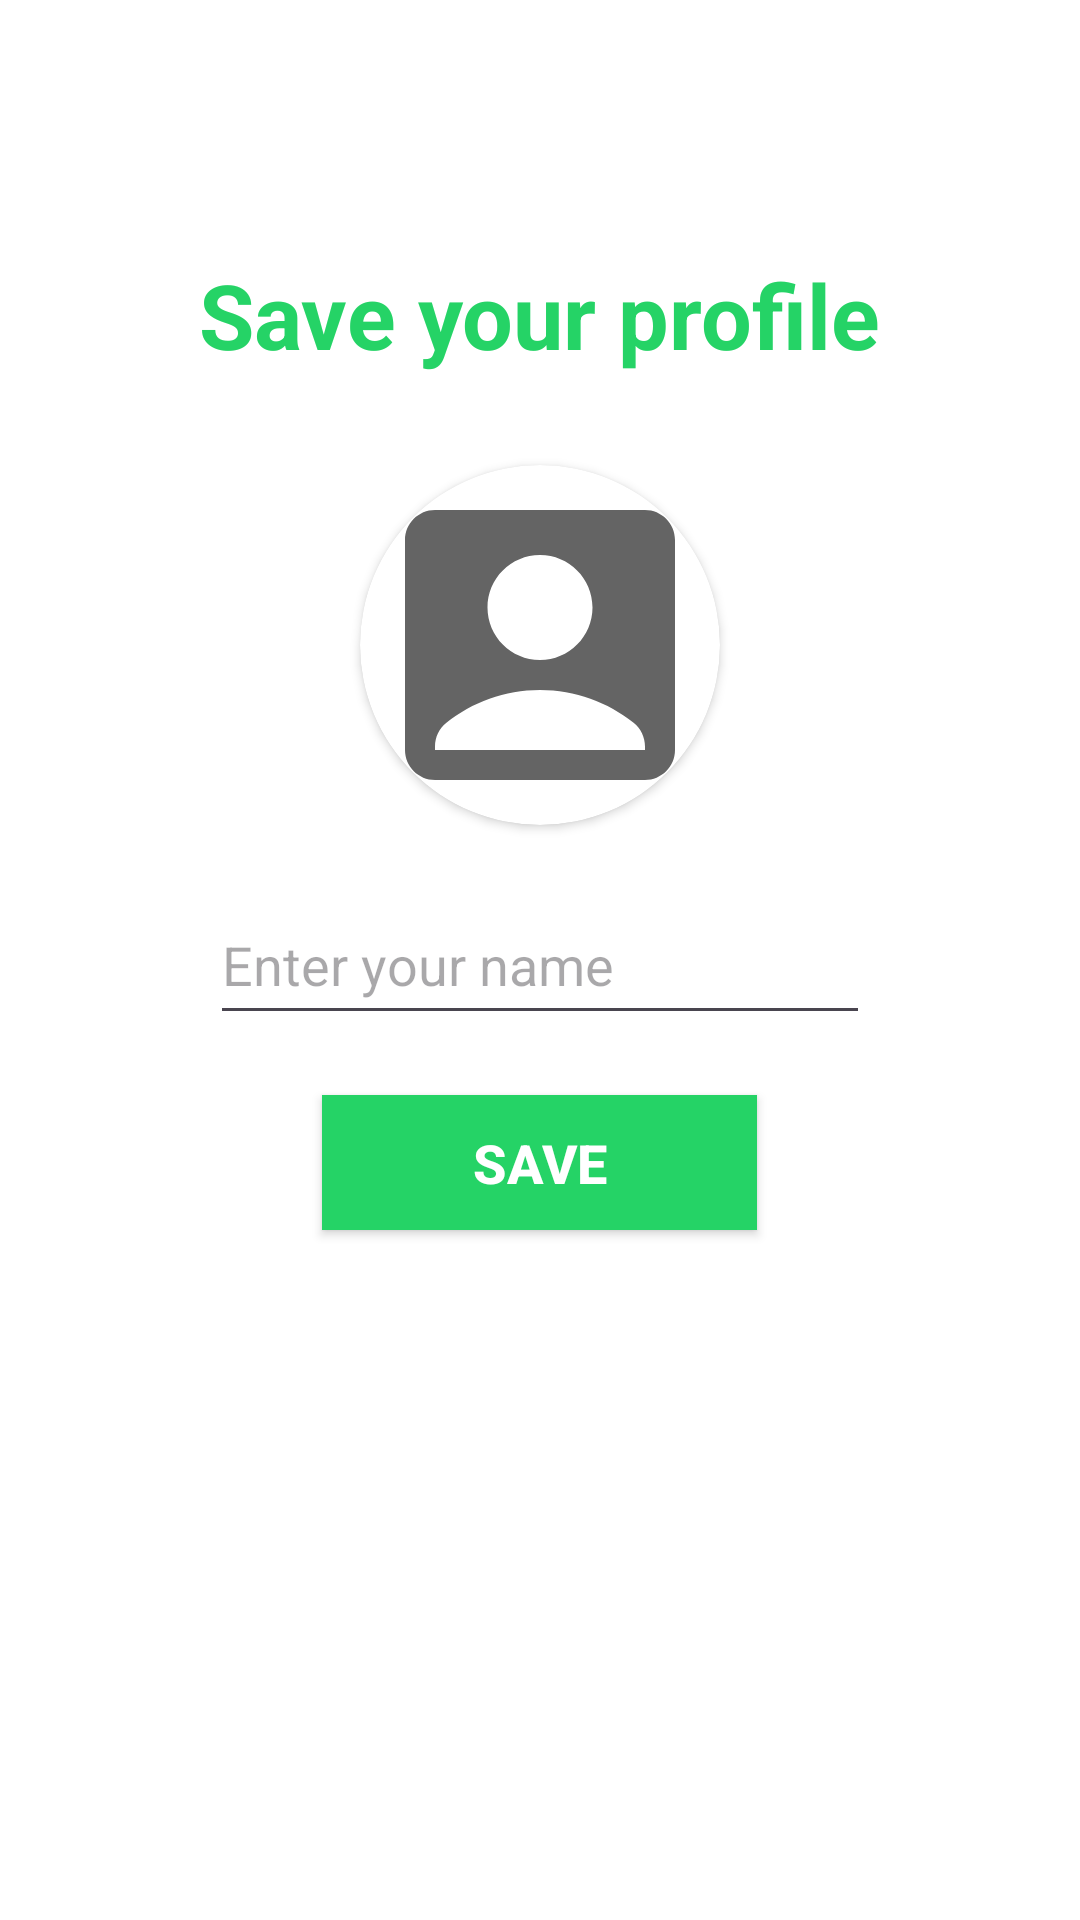

Screen size 1080px x 1920px. Icon name, then its box in pixels as [left=x1, top=y1, right=x2, bottom=y2]:
account box: [left=360, top=510, right=720, bottom=825]
